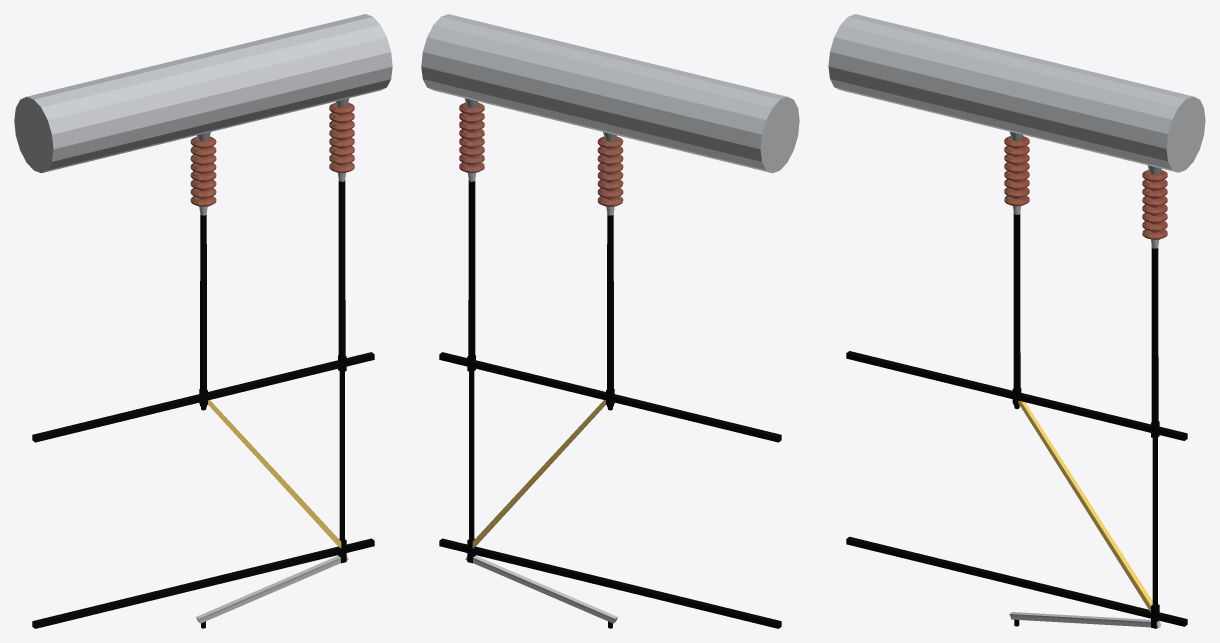
The model's file is moretop_1.obj.
The picture shows the model from 3 angles, left to right: view 1: azimuth 30°, elevation 25°; view 2: azimuth 150°, elevation 25°; view 3: azimuth 330°, elevation 25°; orthographic projection.
Visible parts, largest first — view 1: moretop_1.002, moretop_1.004, moretop_1.003; view 2: moretop_1.002, moretop_1.004, moretop_1.003; view 3: moretop_1.002, moretop_1.004, moretop_1.003.
Part boxes in pixels (bbox=[...]): moretop_1.002: bbox=[14, 14, 392, 173]; moretop_1.004: bbox=[32, 180, 374, 628]; moretop_1.003: bbox=[190, 98, 354, 215]; moretop_1.002: bbox=[421, 14, 799, 173]; moretop_1.004: bbox=[439, 180, 781, 628]; moretop_1.003: bbox=[459, 98, 623, 215]; moretop_1.002: bbox=[828, 14, 1205, 172]; moretop_1.004: bbox=[846, 213, 1187, 628]; moretop_1.003: bbox=[1004, 131, 1167, 248].
Size of the model in its own units: 2 by 3.21 by 0.4.
2 materials, 2 textured.
